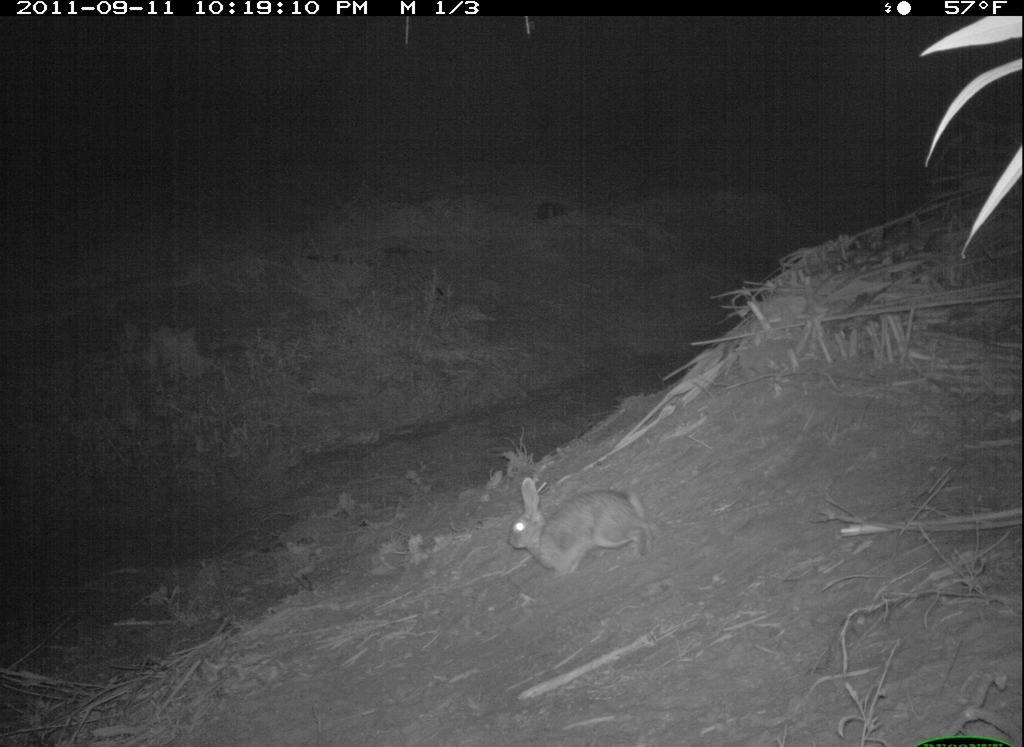rabbit: (498, 468, 657, 587)
